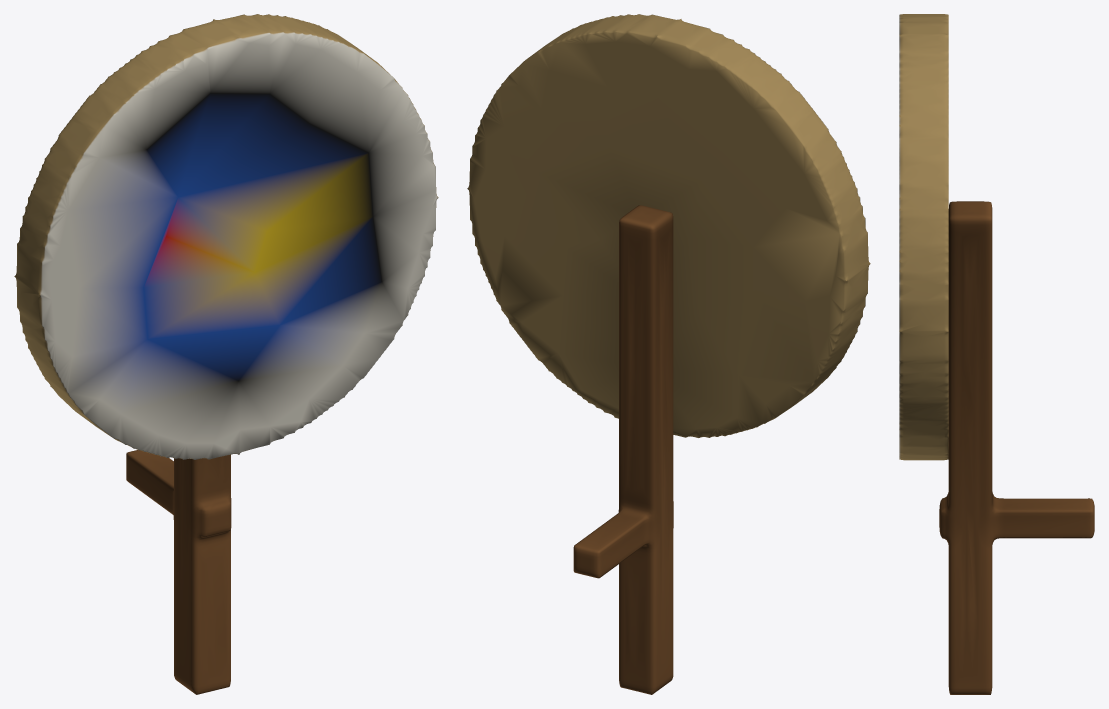
Rendered from target.glb.
3 views of the same model, side by side, from view 1: azimuth 30°, elevation 25°; view 2: azimuth 150°, elevation 25°; view 3: azimuth 270°, elevation 25° (orthographic). The views are drawn at different scales.
Parts seen in each view (by area): view 1: target_face, target_post; view 2: target_face, target_post; view 3: target_post, target_face.
Boxes of the visible parts, left/top/right/bottom form: target_face: left=14, top=14, right=438, bottom=459; target_post: left=126, top=450, right=231, bottom=694; target_face: left=467, top=14, right=870, bottom=437; target_post: left=573, top=205, right=673, bottom=694; target_post: left=939, top=201, right=1094, bottom=694; target_face: left=899, top=14, right=948, bottom=460.
Bounding box in the file's own units: 1.44 × 2.32 × 0.6306.
